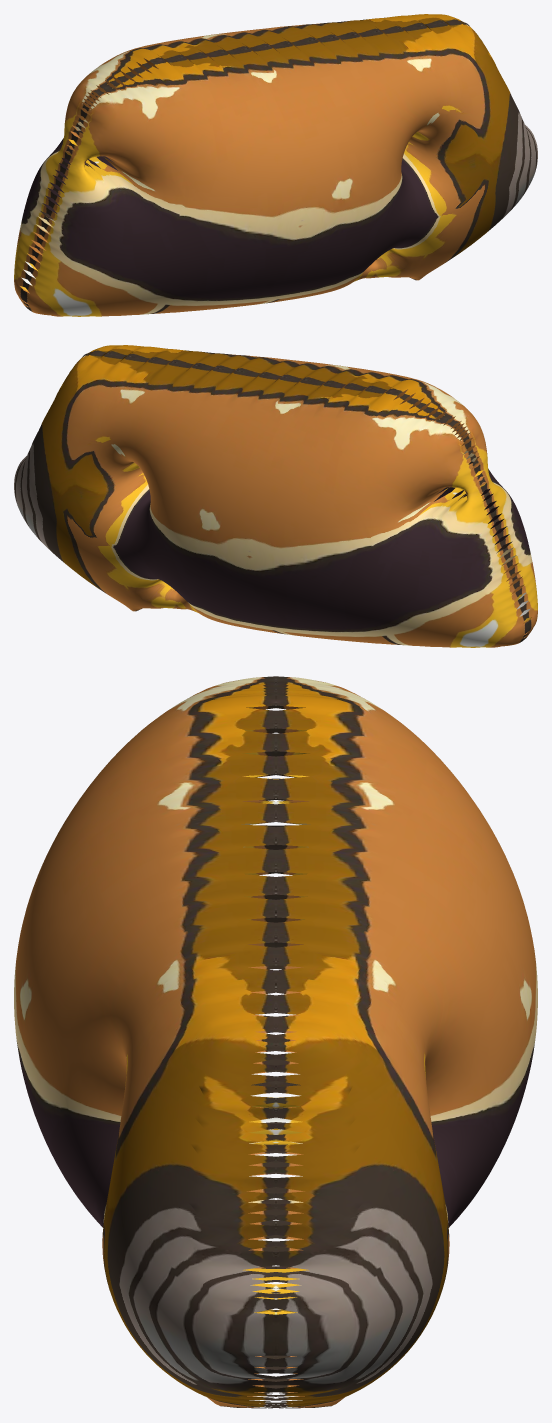
The model's file is orange_console.glb.
3 views of the same model, one above another, from view 1: azimuth 30°, elevation 25°; view 2: azimuth 150°, elevation 25°; view 3: azimuth 270°, elevation 25° (orthographic). The views are drawn at different scales.
Parts seen in each view (by area): view 1: orange_console; view 2: orange_console; view 3: orange_console.
Boxes of the visible parts, x1,y1,x2,y2 form: orange_console: [14, 14, 537, 316]; orange_console: [14, 345, 537, 647]; orange_console: [14, 676, 537, 1408].
Size of the model in its own units: 0.989 by 0.5034 by 0.4907.
1 material, 1 textured.
